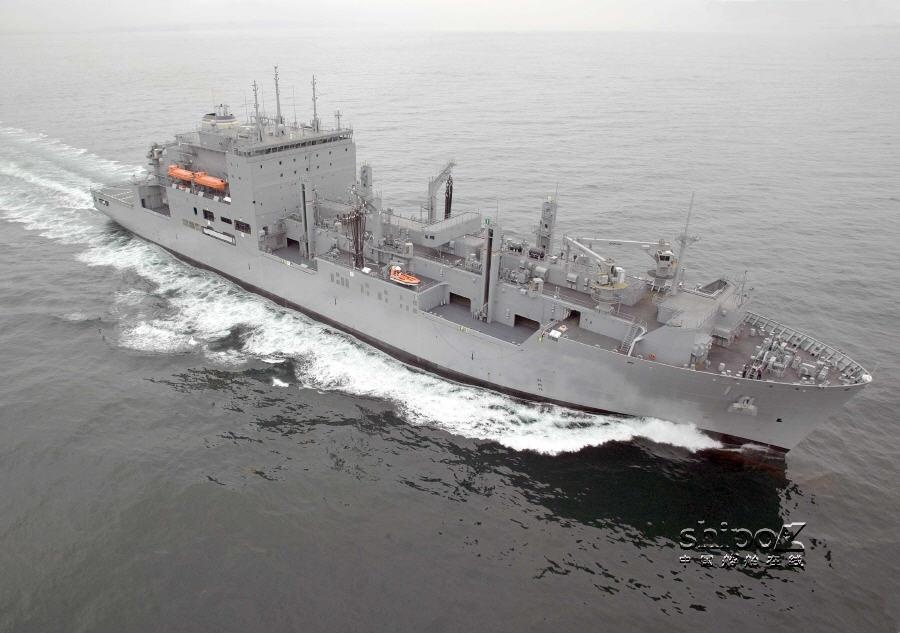warship: (87, 54, 873, 469)
